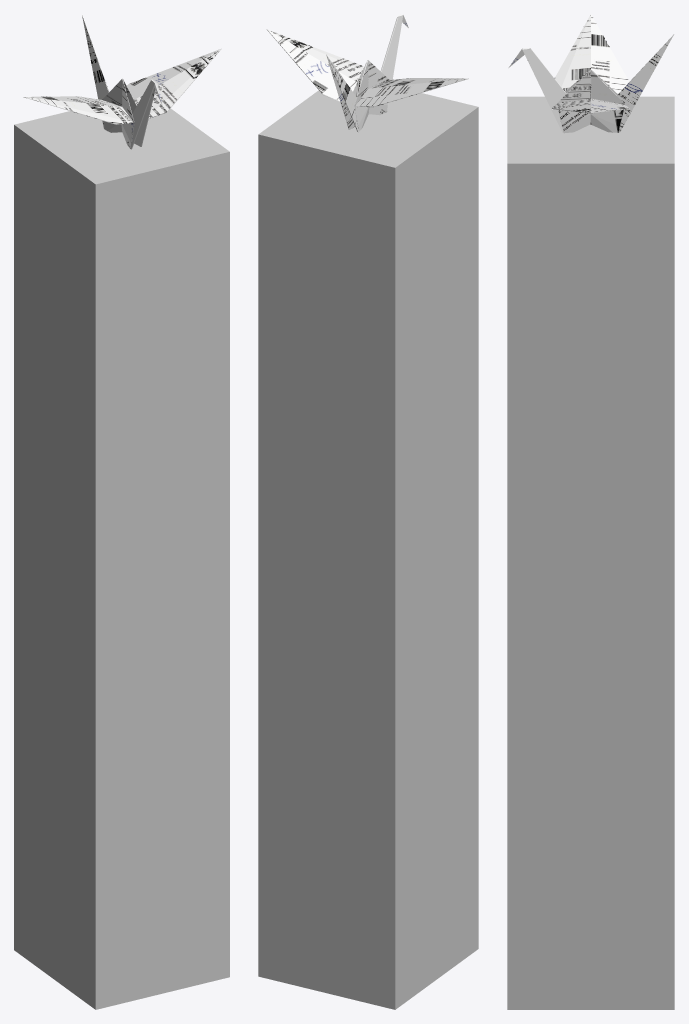
File: Crane_v3.fbx
3 views of the same model, side by side, from view 1: azimuth 30°, elevation 25°; view 2: azimuth 150°, elevation 25°; view 3: azimuth 270°, elevation 25° (orthographic). The views are drawn at different scales.
Visible parts, largest first — view 1: Cube_001, Plane_034_Plane_029; view 2: Cube_001, Plane_034_Plane_029; view 3: Cube_001, Plane_034_Plane_029.
Part boxes in pixels (x1,y1,x2,y2): Cube_001: [14, 108, 229, 1009]; Plane_034_Plane_029: [23, 14, 221, 149]; Cube_001: [258, 90, 478, 1009]; Plane_034_Plane_029: [267, 14, 468, 131]; Cube_001: [507, 96, 674, 1009]; Plane_034_Plane_029: [508, 14, 673, 133].
Size of the model in its own units: 2.59 by 11.47 by 1.85.
2 materials, 1 textured.
